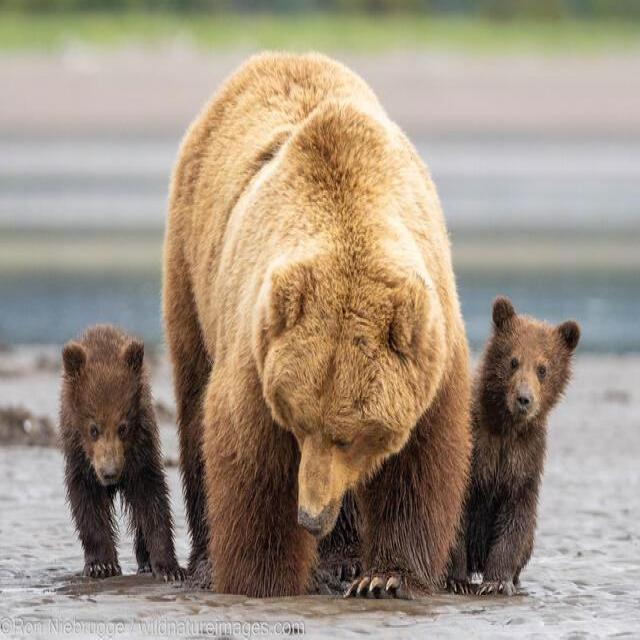Bear: (160, 52, 478, 600), (447, 297, 581, 596), (58, 325, 181, 583)
